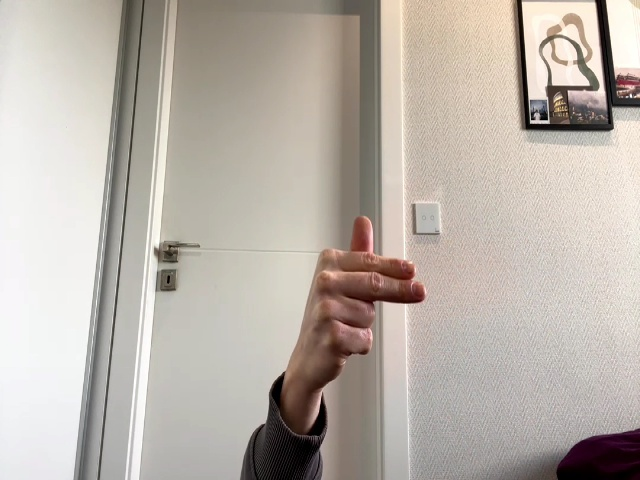N: (300, 216, 426, 380)
